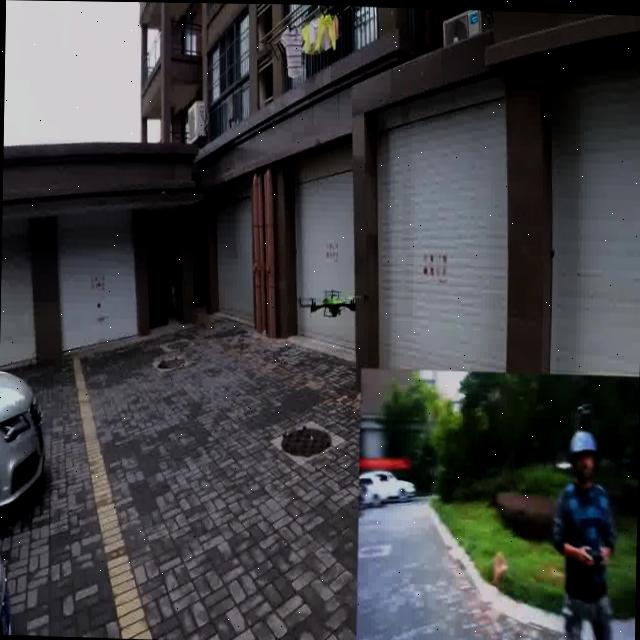drone: (297, 283, 366, 320)
